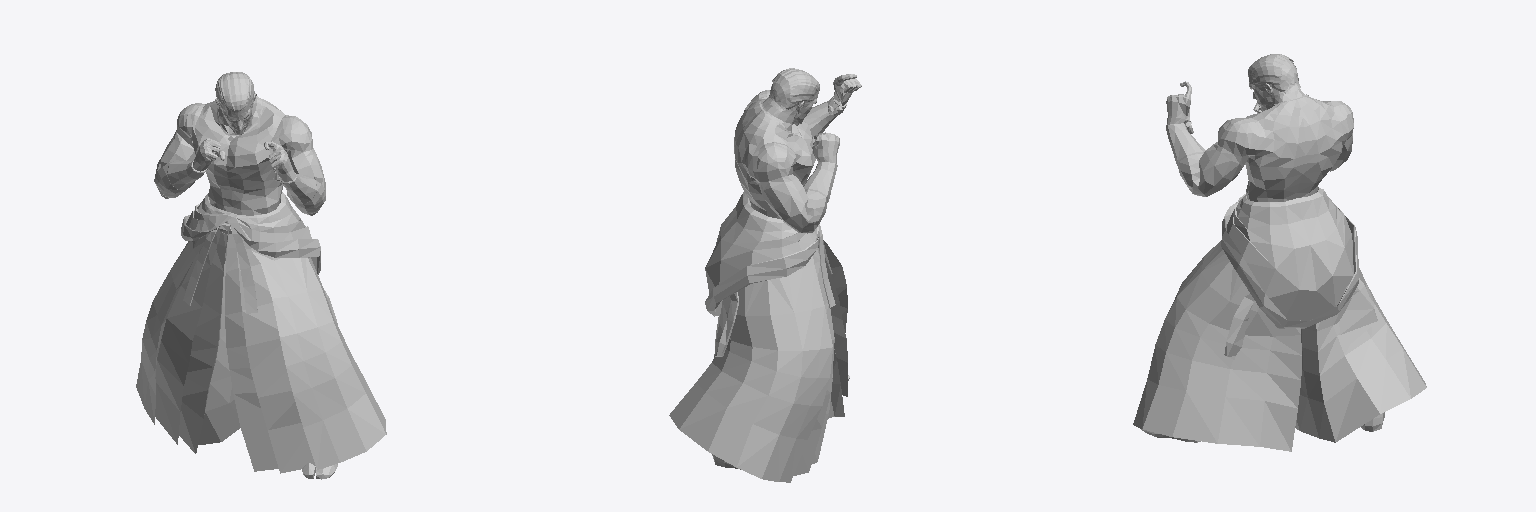
The model's file is geese_attack_000009.obj.
3 views of the same model, side by side, from view 1: azimuth 30°, elevation 25°; view 2: azimuth 150°, elevation 25°; view 3: azimuth 270°, elevation 25° (orthographic).
Parts seen in each view (by area): view 1: GamemodelShape1.002, hairShape; view 2: GamemodelShape1.002, hairShape; view 3: GamemodelShape1.002, hairShape.
Part boxes in pixels (bbox=[...]): GamemodelShape1.002: bbox=[136, 93, 386, 479]; hairShape: bbox=[215, 72, 254, 111]; GamemodelShape1.002: bbox=[669, 74, 861, 482]; hairShape: bbox=[766, 68, 819, 111]; GamemodelShape1.002: bbox=[1133, 75, 1426, 451]; hairShape: bbox=[1248, 54, 1300, 93].
Size of the model in its own units: 2.19 by 4.91 by 3.46.